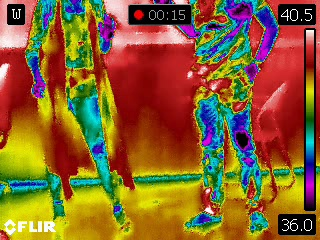human: (24, 1, 136, 234), (183, 1, 280, 236)
